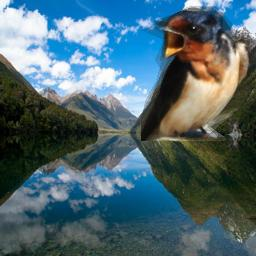Swallow: (141, 6, 252, 141)
